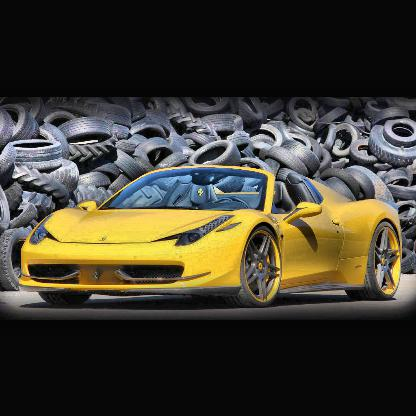Ferrari 458 Italia Convertible 2012: (20, 164, 408, 305)
